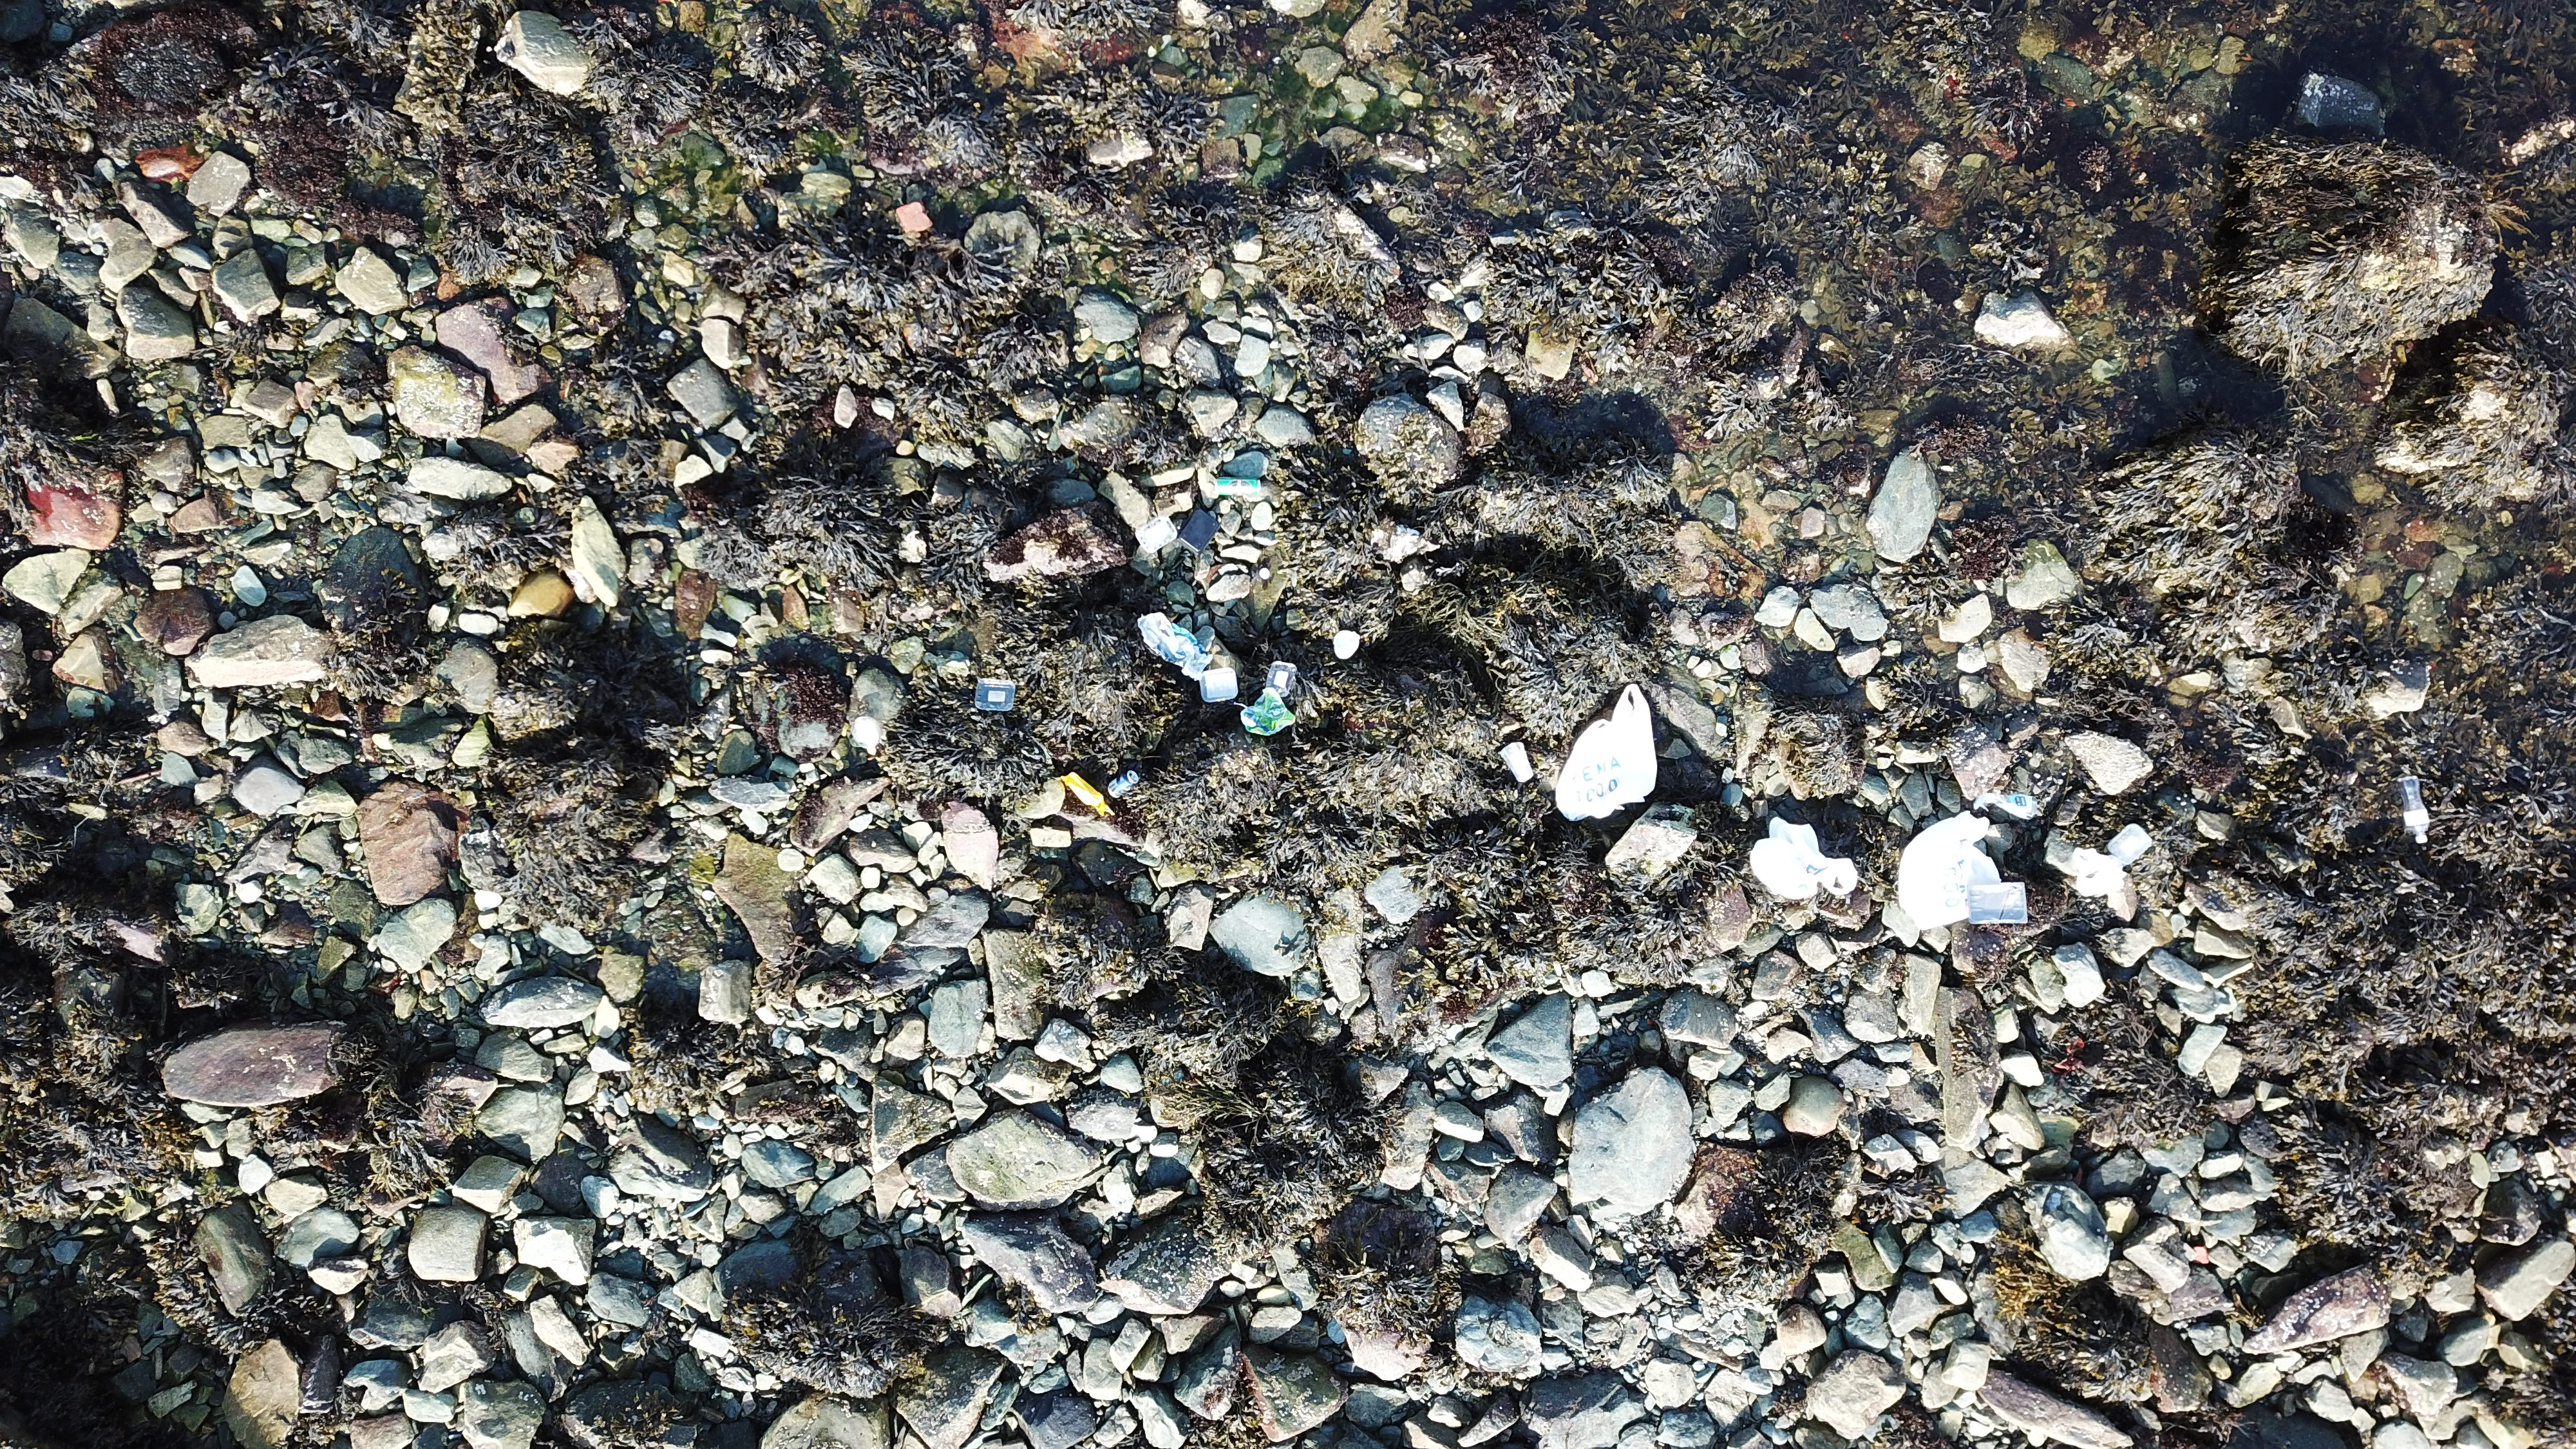Can: (1215, 476, 1263, 499), (1108, 770, 1141, 800)
Plastic: (1555, 683, 1660, 821), (1898, 810, 2001, 931), (1750, 816, 1859, 901), (1136, 610, 1215, 678), (2068, 846, 2130, 895), (1966, 883, 2031, 927), (1238, 686, 1297, 736), (1063, 773, 1115, 817), (1973, 789, 2040, 821), (1178, 506, 1223, 554), (2107, 821, 2153, 863), (1136, 513, 1178, 556), (973, 676, 1017, 713), (1200, 665, 1238, 706), (1500, 741, 1536, 784), (1265, 660, 1300, 699), (1332, 630, 1361, 660)
PlasticBottle: (2397, 775, 2431, 846)
